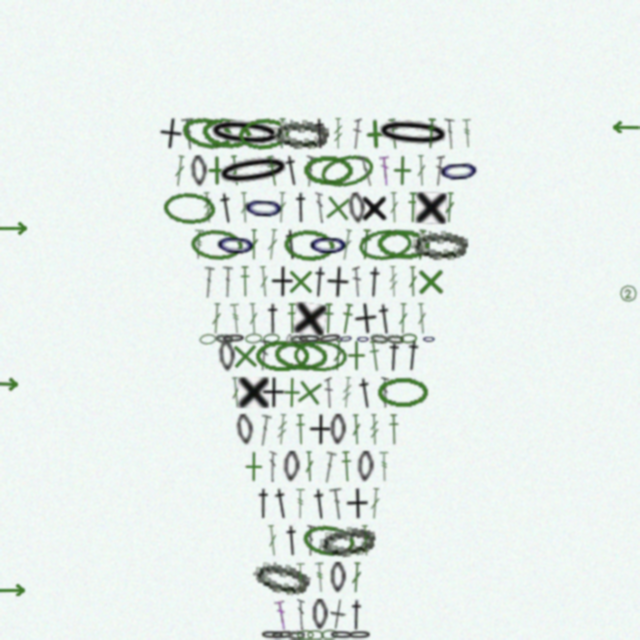chain: (213, 150, 294, 192), (205, 115, 285, 152), (373, 115, 453, 152), (251, 557, 312, 598), (318, 150, 376, 192), (179, 113, 236, 154), (317, 522, 377, 560), (301, 522, 357, 560), (357, 227, 413, 263), (200, 115, 254, 152), (273, 338, 328, 373), (237, 116, 291, 151), (190, 228, 244, 262), (162, 191, 216, 225), (283, 228, 336, 262), (293, 339, 347, 372), (376, 228, 430, 261), (411, 229, 468, 260), (272, 118, 329, 149), (255, 340, 309, 371), (377, 377, 429, 408), (303, 155, 354, 186), (214, 228, 258, 261), (242, 191, 286, 224), (437, 154, 481, 187), (307, 229, 350, 260), (235, 413, 255, 446), (347, 192, 367, 224), (218, 340, 236, 372), (190, 155, 208, 187), (283, 451, 300, 482), (357, 451, 374, 482), (312, 599, 328, 630), (330, 562, 346, 593), (330, 414, 346, 445), (317, 332, 343, 345), (270, 629, 295, 640), (221, 333, 246, 344), (260, 630, 285, 640), (329, 630, 354, 640), (347, 630, 372, 640), (297, 334, 322, 344), (199, 333, 217, 345), (215, 333, 233, 344), (370, 333, 388, 344), (321, 629, 338, 640), (245, 333, 262, 344), (263, 333, 280, 344), (400, 333, 417, 344), (287, 630, 305, 640), (290, 334, 308, 344), (386, 334, 404, 344), (297, 630, 314, 640), (307, 630, 324, 640), (339, 333, 353, 344), (356, 334, 370, 344), (422, 334, 436, 344), (286, 334, 292, 344)
double: (357, 155, 375, 187), (329, 488, 346, 520), (320, 451, 337, 483), (256, 414, 272, 446), (181, 118, 197, 150), (274, 599, 289, 631), (339, 229, 354, 261), (201, 266, 215, 298), (303, 155, 317, 187), (173, 155, 186, 187), (266, 525, 279, 556), (266, 229, 279, 260), (229, 155, 242, 186), (369, 488, 381, 519), (230, 377, 242, 408), (258, 340, 270, 371), (332, 340, 344, 371), (416, 303, 428, 334), (221, 266, 233, 297), (258, 266, 270, 297), (379, 155, 391, 186), (444, 118, 456, 149), (351, 562, 362, 593), (360, 525, 371, 556), (304, 451, 315, 482), (351, 414, 362, 445), (211, 303, 222, 334), (248, 303, 259, 334), (239, 192, 250, 223), (276, 192, 287, 223), (444, 192, 455, 223), (416, 155, 427, 186), (434, 155, 445, 186), (305, 525, 315, 556), (324, 377, 334, 408), (398, 303, 408, 334), (352, 266, 362, 297), (408, 266, 418, 297), (249, 229, 259, 260), (315, 192, 325, 223), (389, 192, 399, 223), (277, 118, 287, 149), (352, 118, 362, 149), (268, 451, 277, 482), (380, 377, 389, 408), (297, 599, 305, 630)
half_double: (402, 339, 424, 372), (281, 154, 303, 187), (271, 487, 292, 520), (355, 377, 376, 409), (309, 266, 330, 298), (364, 266, 385, 298), (216, 192, 237, 224), (310, 488, 330, 520), (384, 340, 404, 372), (375, 303, 395, 335), (347, 599, 366, 631), (254, 488, 273, 519), (282, 229, 301, 260), (283, 525, 301, 556), (264, 303, 282, 334), (292, 192, 310, 223), (311, 118, 329, 149), (264, 155, 281, 187), (367, 340, 383, 372), (339, 303, 355, 335), (414, 229, 429, 261), (386, 118, 401, 150), (359, 229, 373, 260), (424, 118, 438, 149), (340, 451, 353, 482), (294, 414, 307, 445), (322, 303, 335, 334), (388, 414, 400, 445), (286, 303, 298, 334), (239, 266, 251, 297), (407, 192, 419, 223)
noise: (617, 282, 640, 305), (0, 222, 29, 235), (610, 121, 640, 133), (0, 584, 27, 596), (0, 376, 20, 391)
single: (292, 375, 327, 410), (293, 302, 327, 336), (321, 191, 355, 225), (229, 340, 261, 372), (415, 192, 447, 224), (359, 118, 391, 150), (238, 451, 269, 482), (238, 377, 269, 408), (341, 340, 372, 371), (285, 266, 316, 297), (415, 266, 446, 297), (387, 155, 418, 186), (277, 377, 307, 408), (202, 155, 232, 186), (360, 192, 389, 223), (352, 302, 379, 335), (157, 117, 184, 150), (325, 266, 350, 298), (345, 488, 369, 519), (308, 414, 332, 445), (261, 377, 285, 408), (270, 266, 294, 297), (328, 598, 348, 631)
treble: (229, 303, 243, 334), (461, 118, 474, 149), (314, 562, 326, 593), (276, 414, 288, 445), (341, 377, 353, 408), (193, 229, 205, 260), (202, 192, 214, 223), (295, 562, 306, 593), (295, 488, 306, 519), (379, 451, 390, 482), (369, 414, 380, 445), (388, 266, 399, 297), (333, 118, 343, 149)
